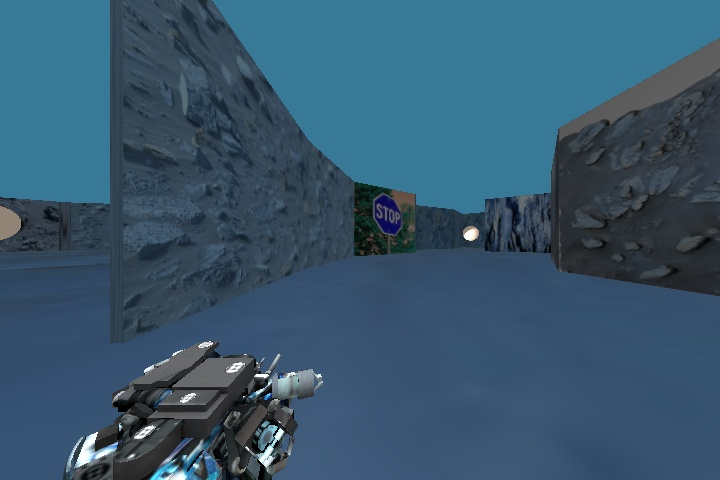stop_sign: (368, 191, 410, 241)
white_sphere: (454, 225, 482, 247)
